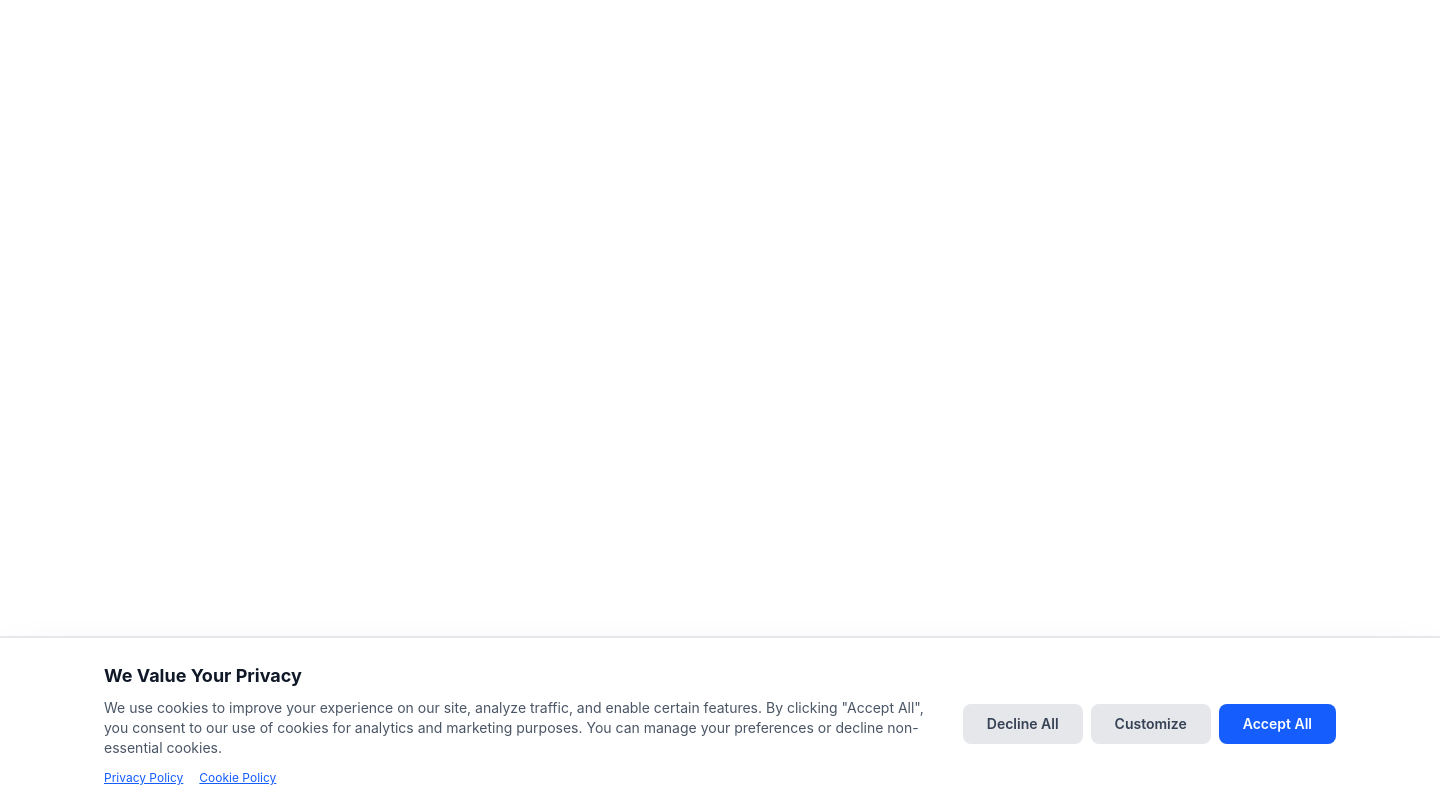
it: CookieConsent component › should have Save Preferences and Cancel buttons in modal
Step 1. Click the button "Customize" → {"x": 1151, "y": 724}, box left=1091, top=704, right=1211, bottom=744
(page scrolled)
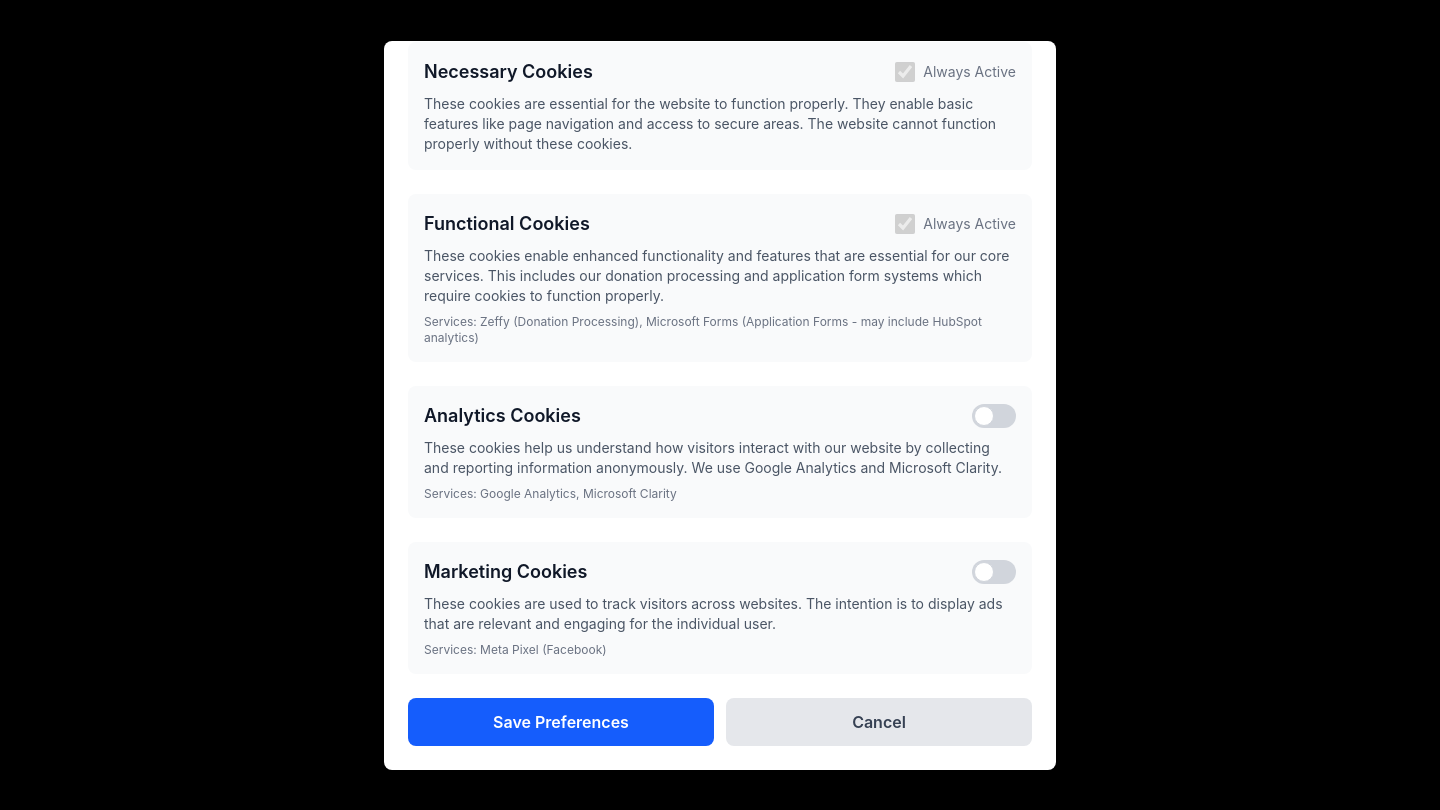
Now the button "Save Preferences" is shown, box left=408, top=698, right=714, bottom=746
Now the button "Cancel" is shown, box left=726, top=698, right=1032, bottom=746
